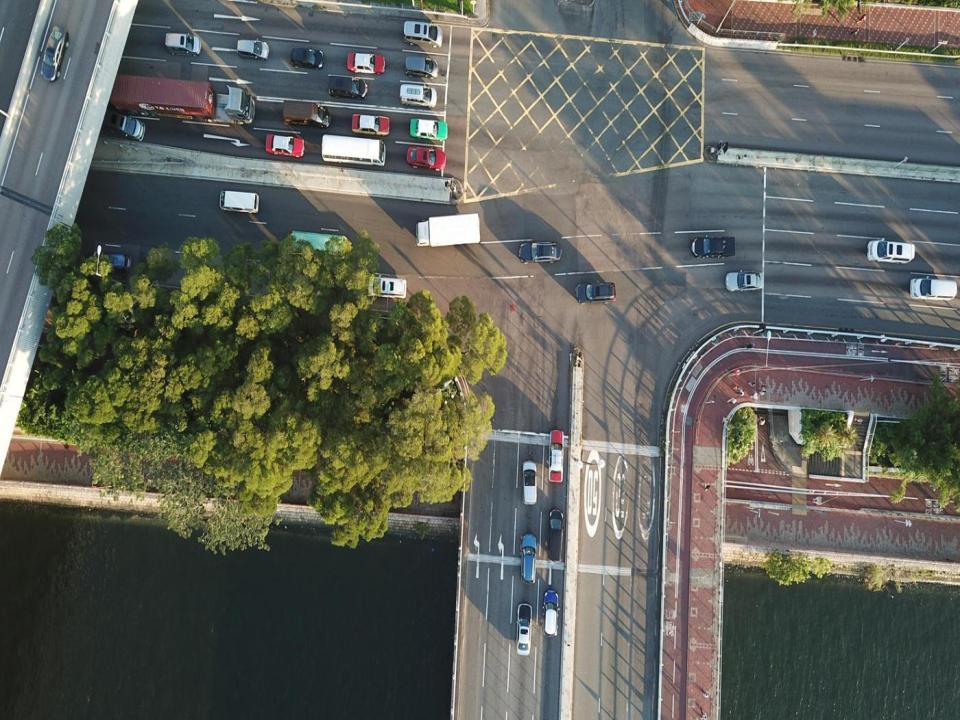bus: (321, 134, 387, 166), (290, 229, 347, 260)
car: (40, 25, 68, 81), (407, 145, 447, 172), (691, 234, 736, 258), (518, 239, 561, 264), (347, 51, 385, 77), (265, 134, 305, 158), (575, 280, 615, 304), (411, 117, 448, 142), (548, 509, 565, 563), (368, 275, 407, 298), (542, 589, 560, 638), (725, 270, 765, 292), (520, 533, 537, 584), (548, 430, 563, 483), (290, 47, 324, 70), (352, 114, 389, 135), (517, 602, 531, 656)
truck: (107, 72, 256, 125), (416, 213, 480, 246), (219, 191, 259, 214)
van: (283, 99, 330, 127), (101, 111, 144, 140), (910, 275, 957, 300), (403, 20, 443, 49), (866, 241, 915, 263), (398, 81, 438, 107), (90, 250, 132, 274), (328, 74, 368, 99), (165, 31, 202, 57), (404, 55, 439, 79), (237, 38, 270, 60), (522, 460, 538, 504)
